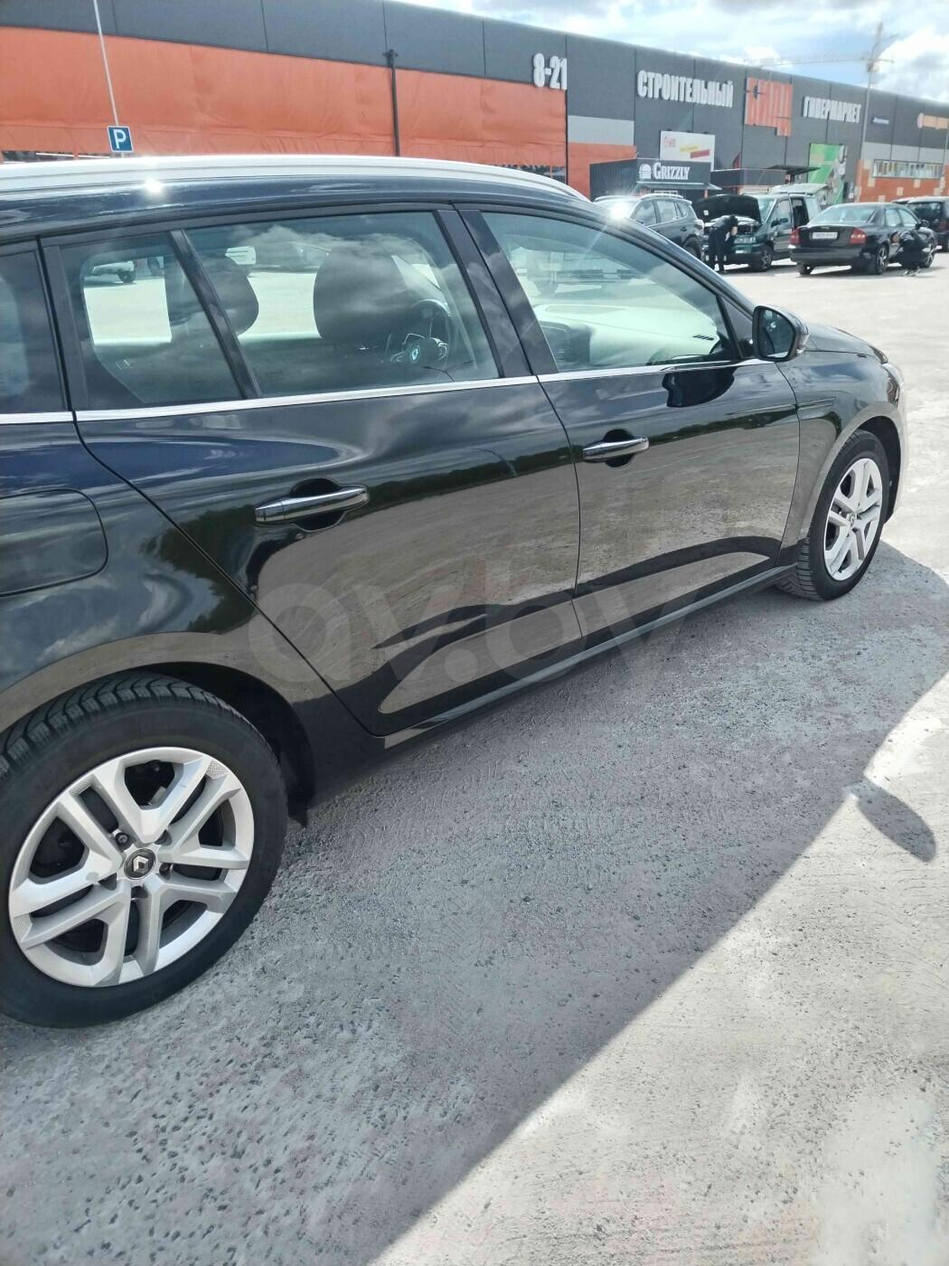Megane_2016-2020: (0, 150, 902, 1022)
